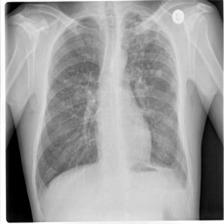tuberculosis: (31, 14, 193, 204)
